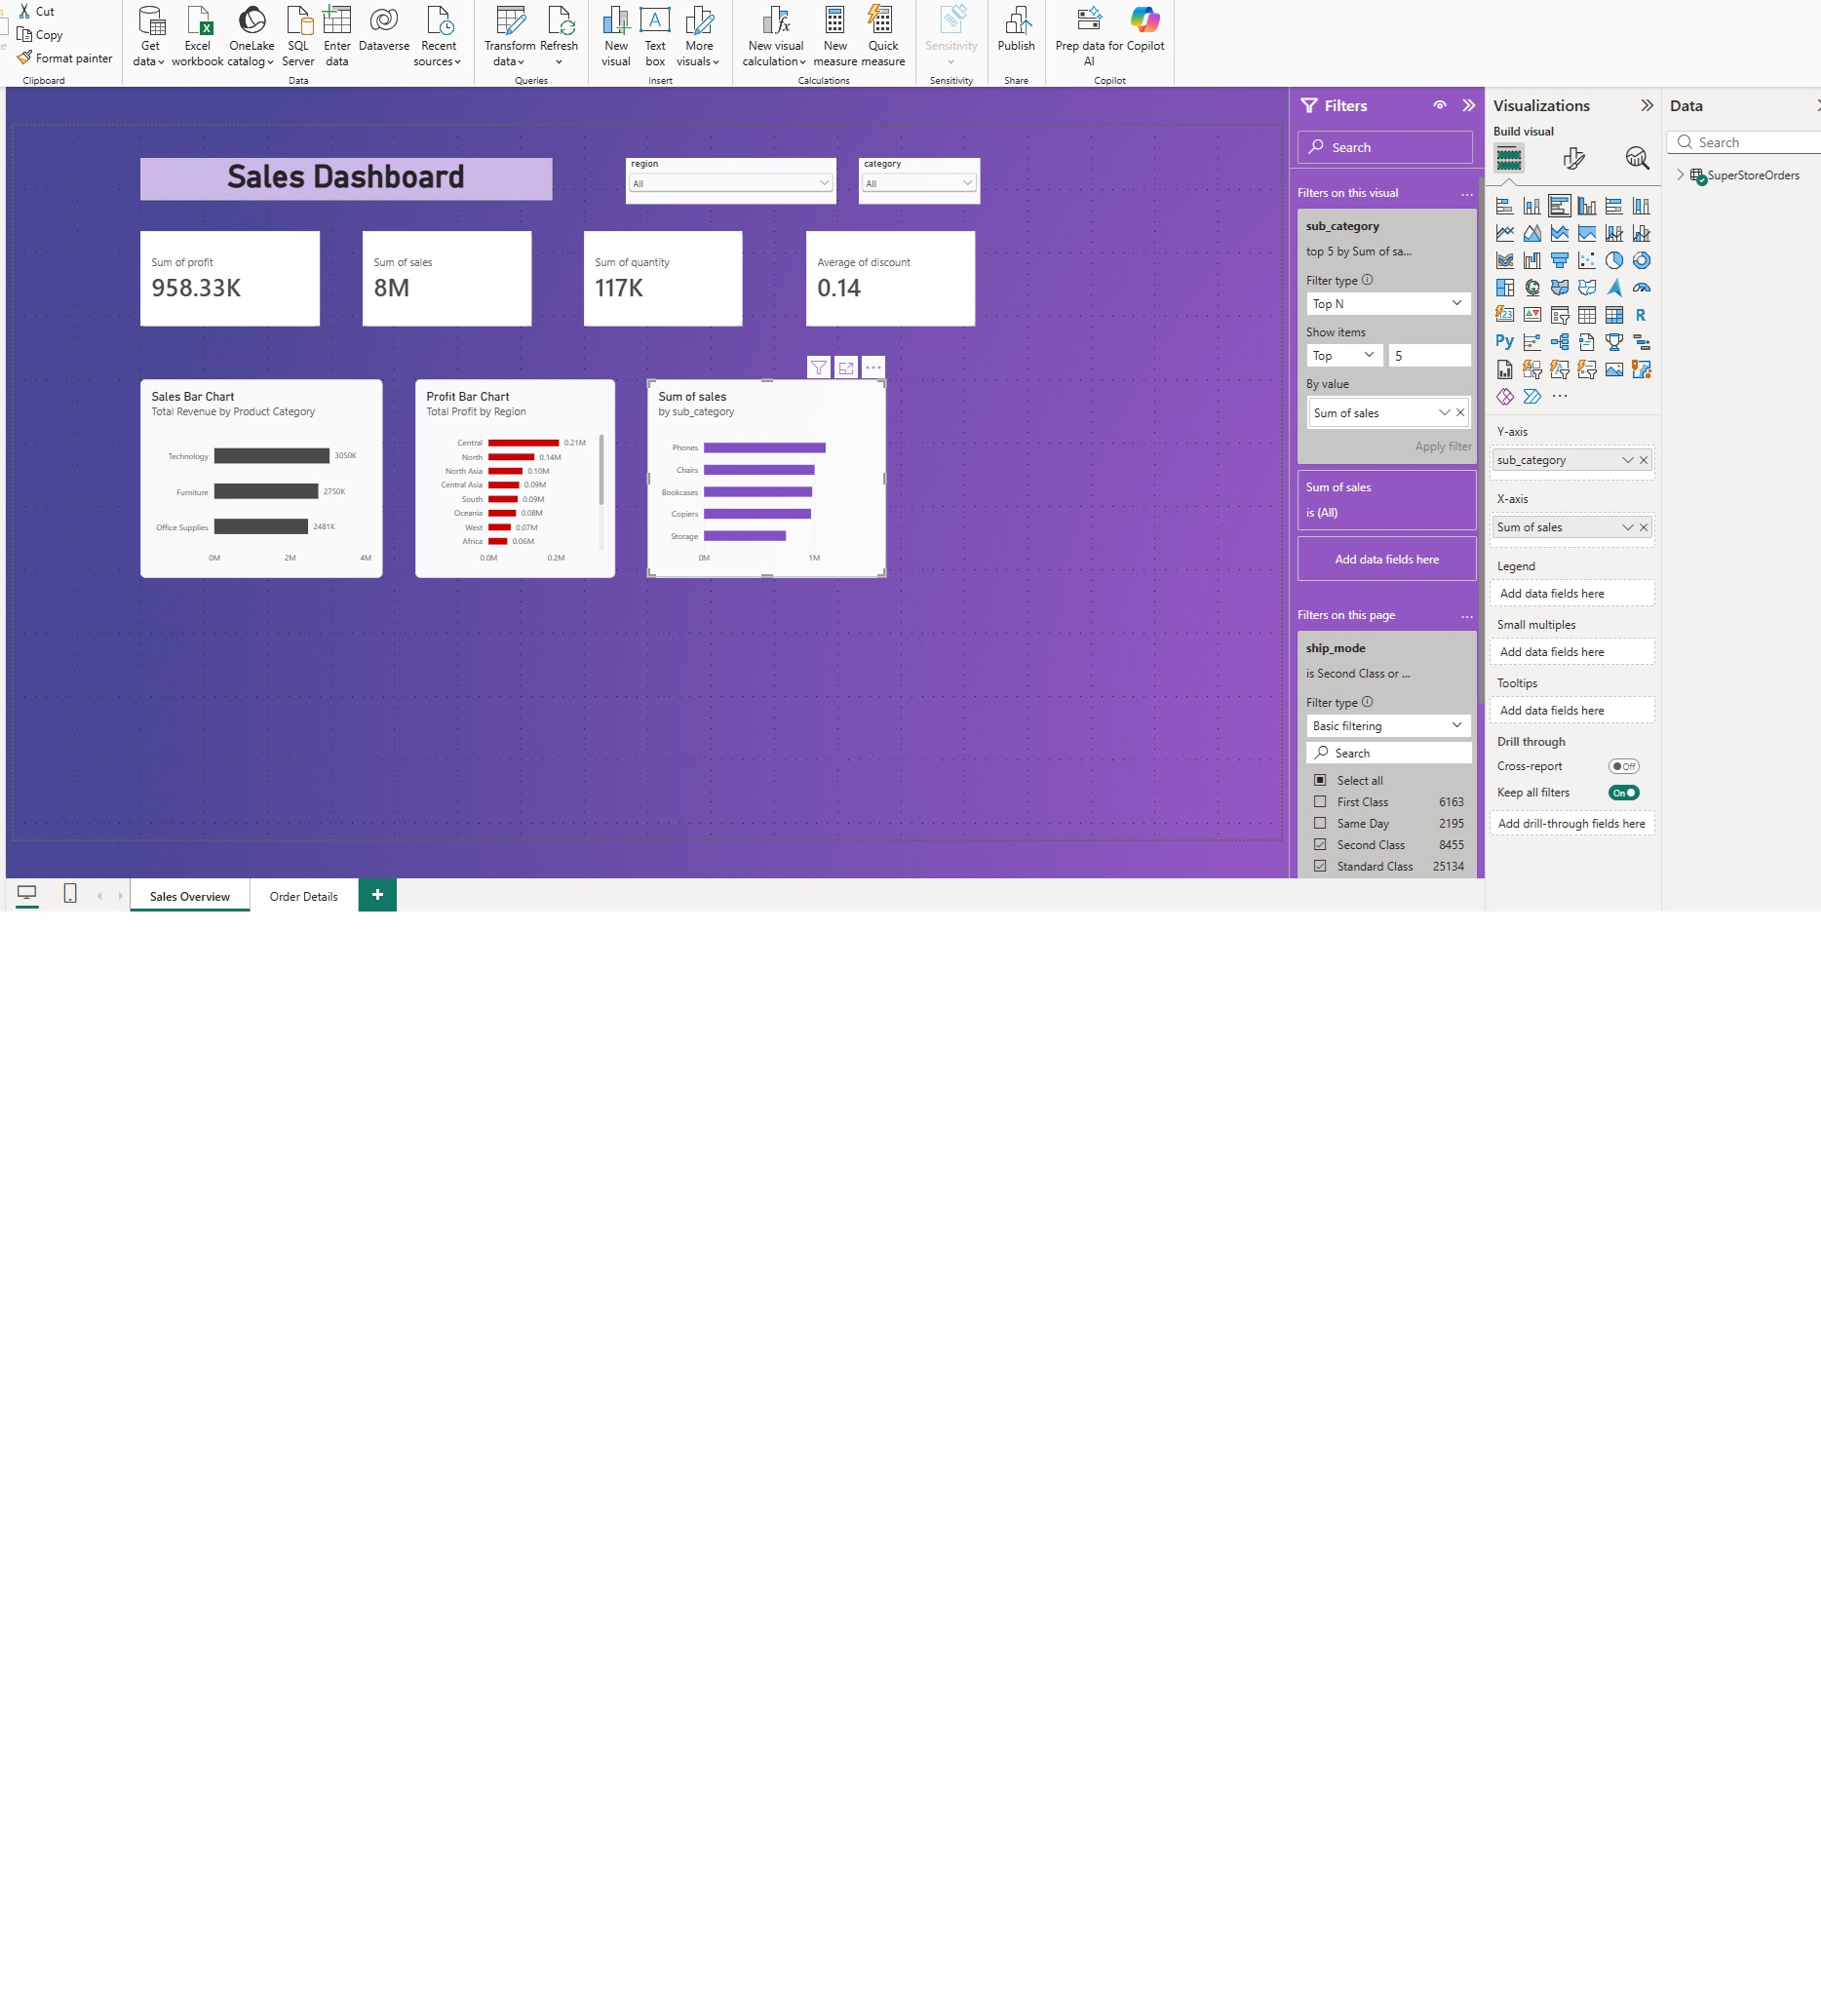

The dashboard page shown, as its layout file describes it:
{"tool":"powerbi","page":{"name":"Sales Overview","canvas":[1920,1080],"ordinal":0},"visuals":[{"type":"cardVisual","fields":{"Data":["Sum(SuperStoreOrders.sales)"]},"box":[528,160,256,144],"z":0},{"type":"cardVisual","fields":{"Data":["Sum(SuperStoreOrders.profit)"]},"box":[192,160,272,144],"z":1000},{"type":"cardVisual","fields":{"Data":["Sum(SuperStoreOrders.quantity)"]},"box":[864,160,240,144],"z":2000},{"type":"cardVisual","fields":{"Data":["Avg(SuperStoreOrders.discount)"]},"box":[1200,160,256,144],"z":3000},{"type":"clusteredBarChart","title":"Sales Bar Chart","fields":{"Category":["SuperStoreOrders.category"],"Y":["Sum(SuperStoreOrders.sales)"]},"box":[192,384,367.1,300.6],"z":4000},{"type":"clusteredBarChart","title":"Profit Bar Chart","fields":{"Category":["SuperStoreOrders.region"],"Y":["Sum(SuperStoreOrders.profit)"]},"box":[608,384,303.3,300.6],"z":5000},{"type":"slicer","fields":{"Values":["SuperStoreOrders.region"]},"box":[928,48,319.2,70.5],"z":6000},{"type":"slicer","fields":{"Values":["SuperStoreOrders.category"]},"box":[1280,48,183.5,70.5],"z":7000},{"type":"clusteredBarChart","fields":{"Category":["SuperStoreOrders.sub_category"],"Y":["Sum(SuperStoreOrders.sales)"]},"box":[960,384,361.8,300.5],"z":8000},{"type":"textbox","title":"Sales Dashboard","box":[192,48,624,64],"z":8001}]}

Visuals, with their boxes on the page's 1920x1080 design canvas (x1, y1, x2, y2). These are canvas units, not pixel positions in the 1821x2016 screenshot, which may show the page scaled, cropped or inside an application window:
cardVisual - Sum(SuperStoreOrders.sales): detection(528, 160, 784, 304)
cardVisual - Sum(SuperStoreOrders.profit): detection(192, 160, 464, 304)
cardVisual - Sum(SuperStoreOrders.quantity): detection(864, 160, 1104, 304)
cardVisual - Avg(SuperStoreOrders.discount): detection(1200, 160, 1456, 304)
"Sales Bar Chart" clusteredBarChart: detection(192, 384, 559, 685)
"Profit Bar Chart" clusteredBarChart: detection(608, 384, 911, 685)
slicer - SuperStoreOrders.region: detection(928, 48, 1247, 118)
slicer - SuperStoreOrders.category: detection(1280, 48, 1464, 118)
clusteredBarChart - SuperStoreOrders.sub_category x Sum(SuperStoreOrders.sales): detection(960, 384, 1322, 684)
"Sales Dashboard" textbox: detection(192, 48, 816, 112)
